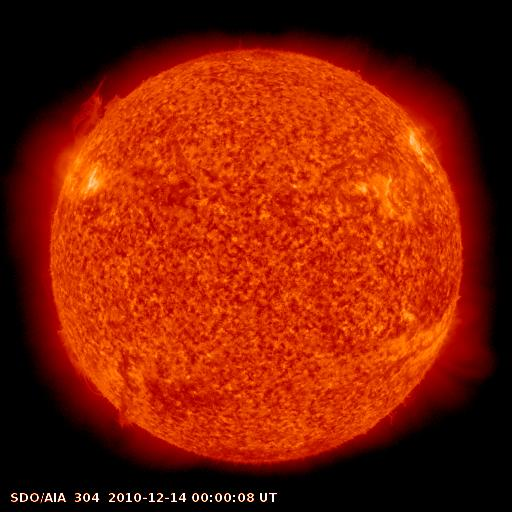prominence: (62, 67, 135, 149), (42, 317, 113, 390), (97, 395, 150, 435)
